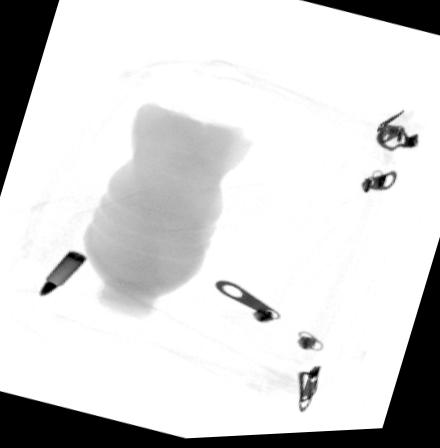Bullet: (37, 250, 86, 295)
